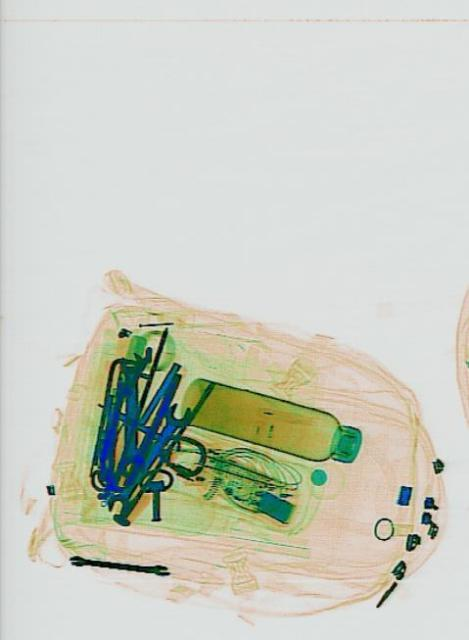Wrench: (100, 392, 195, 524), (115, 351, 144, 474)
